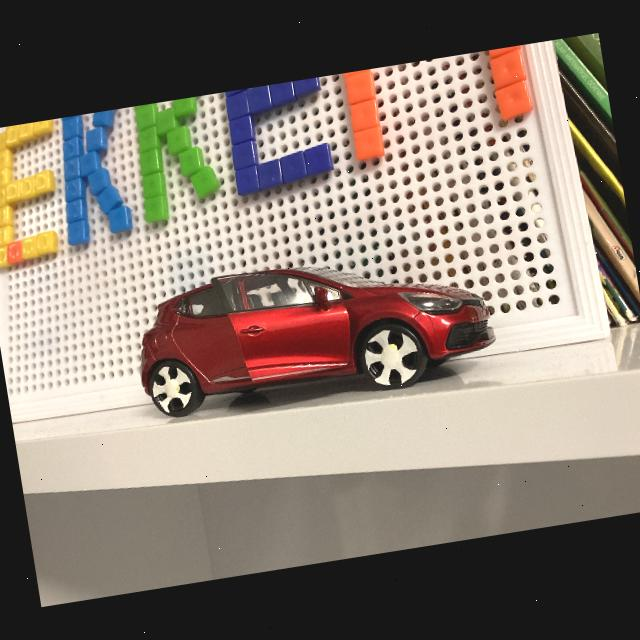Yanlis_Jant: (362, 324, 422, 390), (148, 362, 198, 416)
